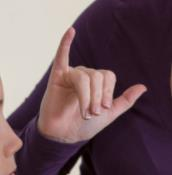clockwise: (44, 21, 149, 137)
